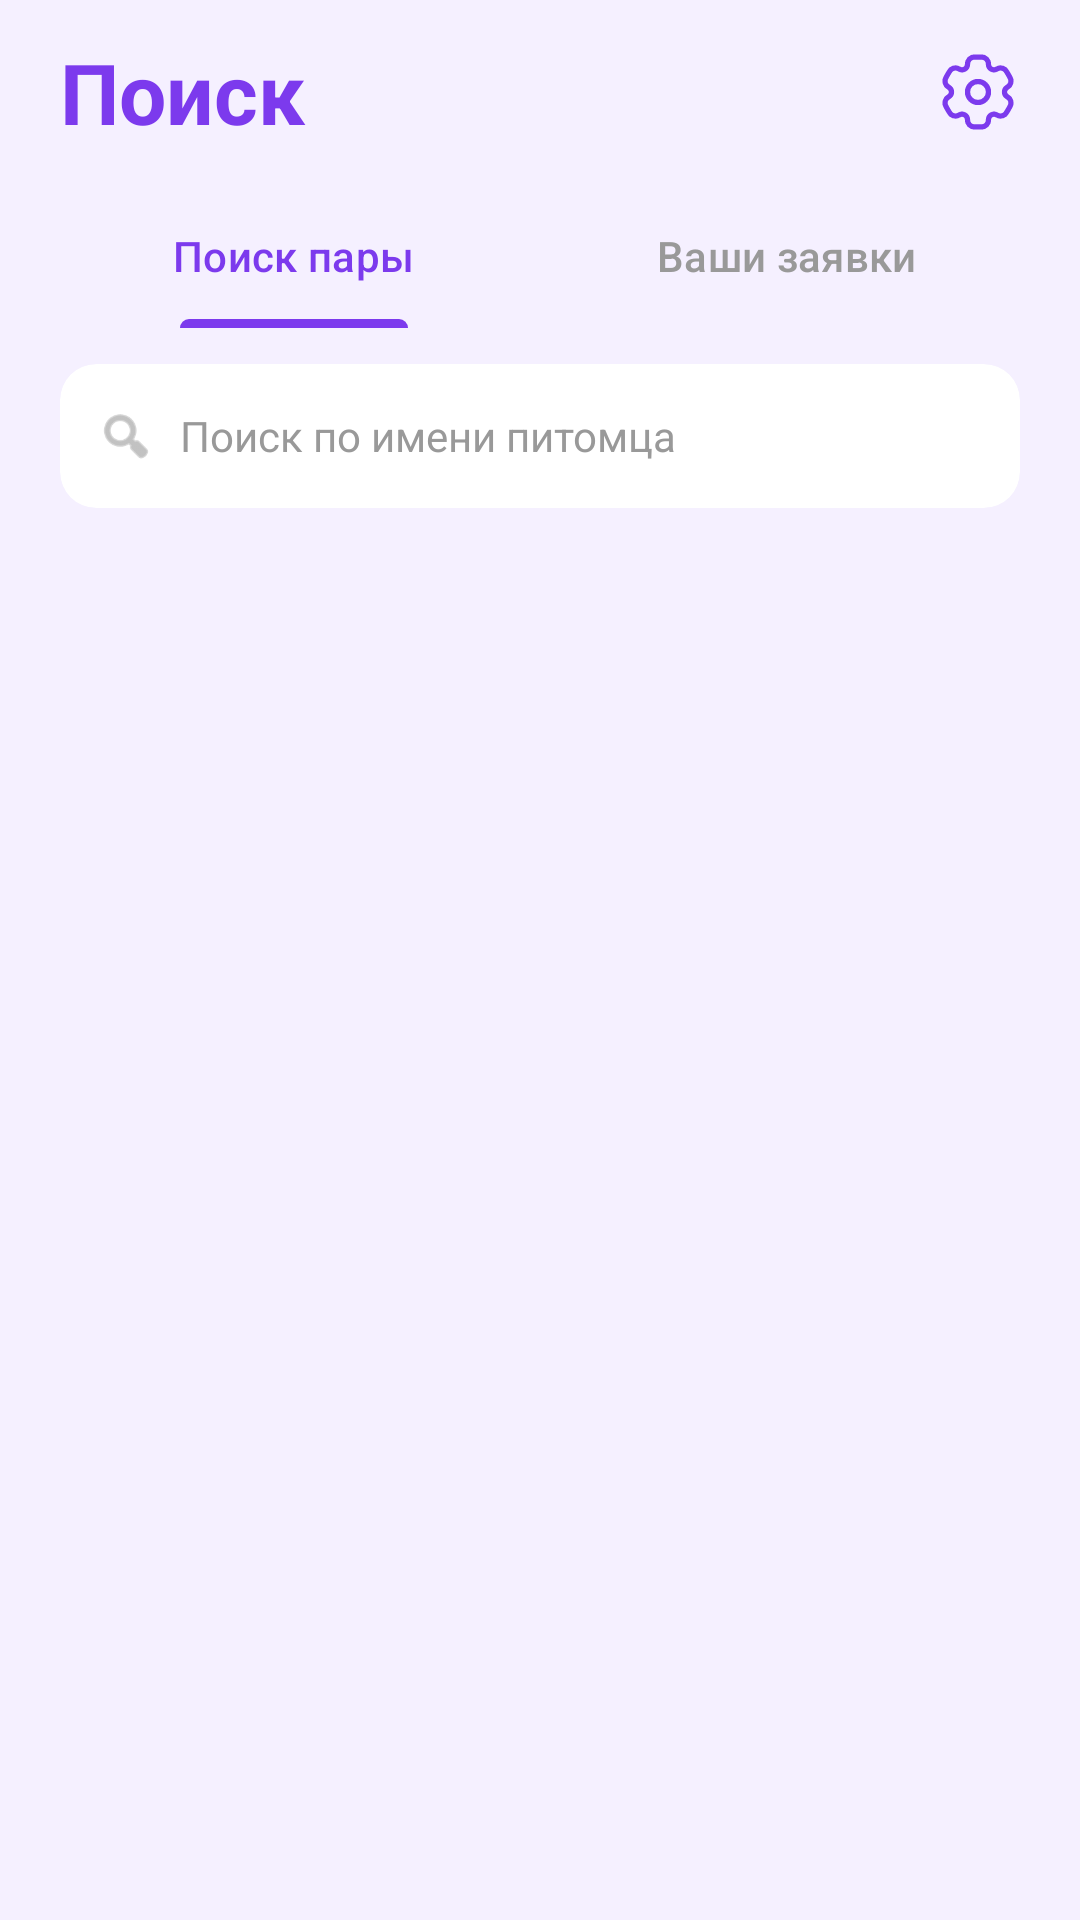

Where to tap for icons on this 1080x1920 app screen, as (x=x, y=y):
search: (x=126, y=436)
Settings: (x=978, y=92)
